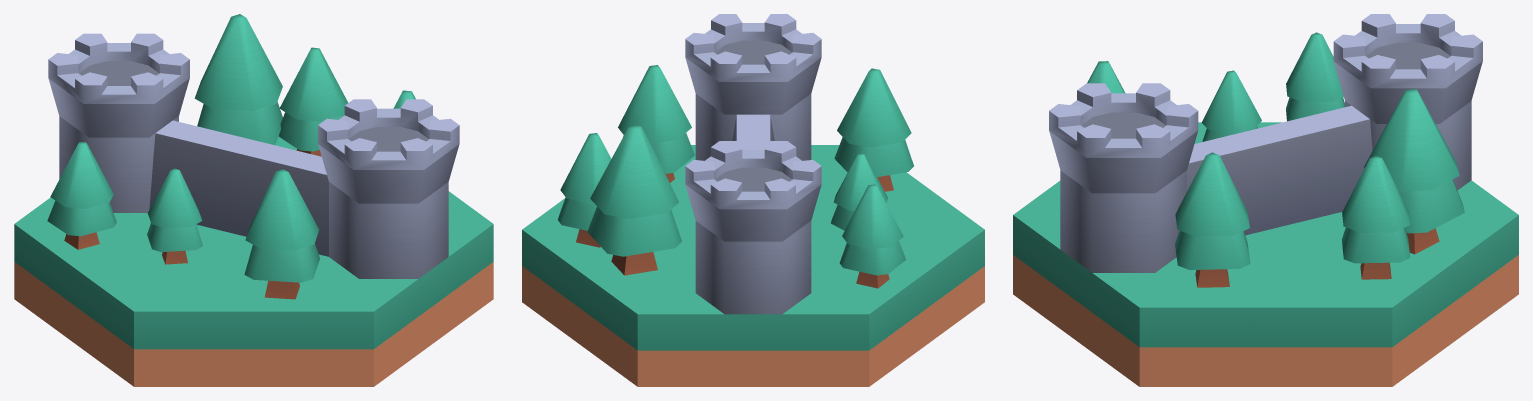
File: building-wall.fbx
3 views of the same model, side by side, from view 1: azimuth 30°, elevation 25°; view 2: azimuth 150°, elevation 25°; view 3: azimuth 270°, elevation 25° (orthographic). The views are drawn at different scales.
Parts seen in each view (by area): view 1: building_wall; view 2: building_wall; view 3: building_wall.
Boxes of the visible parts, x1,y1,x2,y2 form: building_wall: (14, 14, 493, 386); building_wall: (522, 14, 984, 386); building_wall: (1013, 14, 1518, 386).
Size of the model in its own units: 100 by 58 by 115.
Materials: 1 (1 with a texture image).
